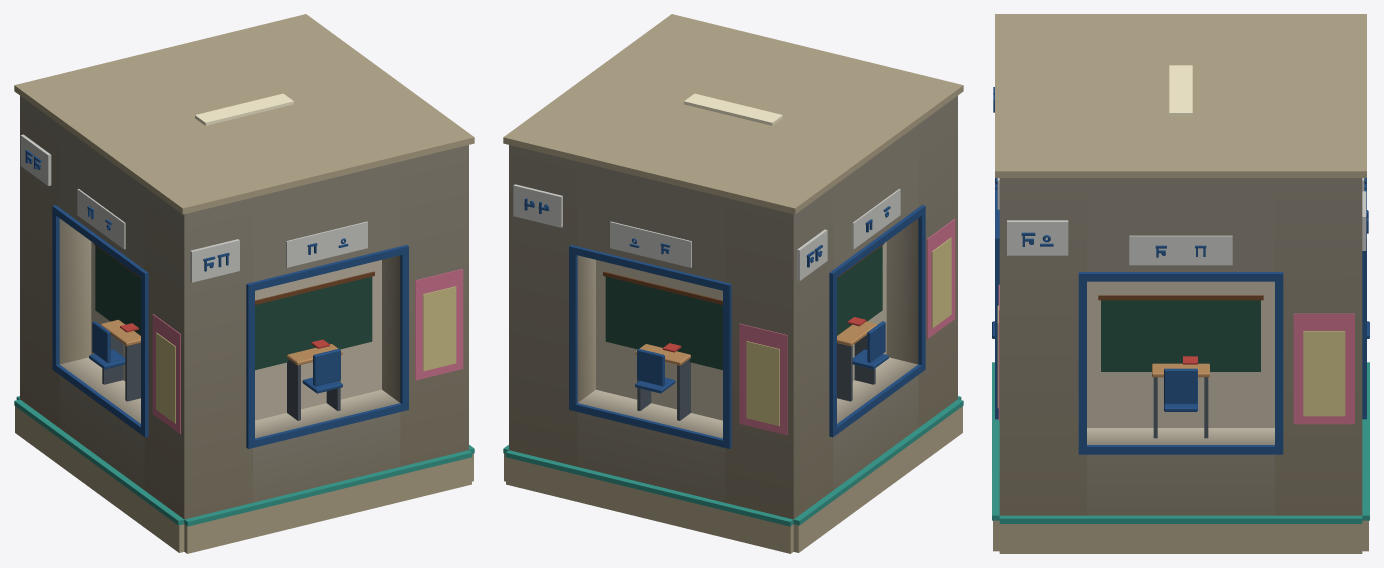
The model's file is wall_b.fbx.
The picture shows the model from 3 angles, left to right: view 1: azimuth 30°, elevation 25°; view 2: azimuth 150°, elevation 25°; view 3: azimuth 270°, elevation 25°; orthographic projection. The views are drawn at different scales.
Parts seen in each view (by area): view 1: wall_b; view 2: wall_b; view 3: wall_b.
Boxes of the visible parts, x1,y1,x2,y2 form: wall_b: [14, 14, 474, 553]; wall_b: [503, 14, 963, 553]; wall_b: [992, 14, 1369, 553].
Bounding box in the file's own units: 4 × 4.5 × 4.
